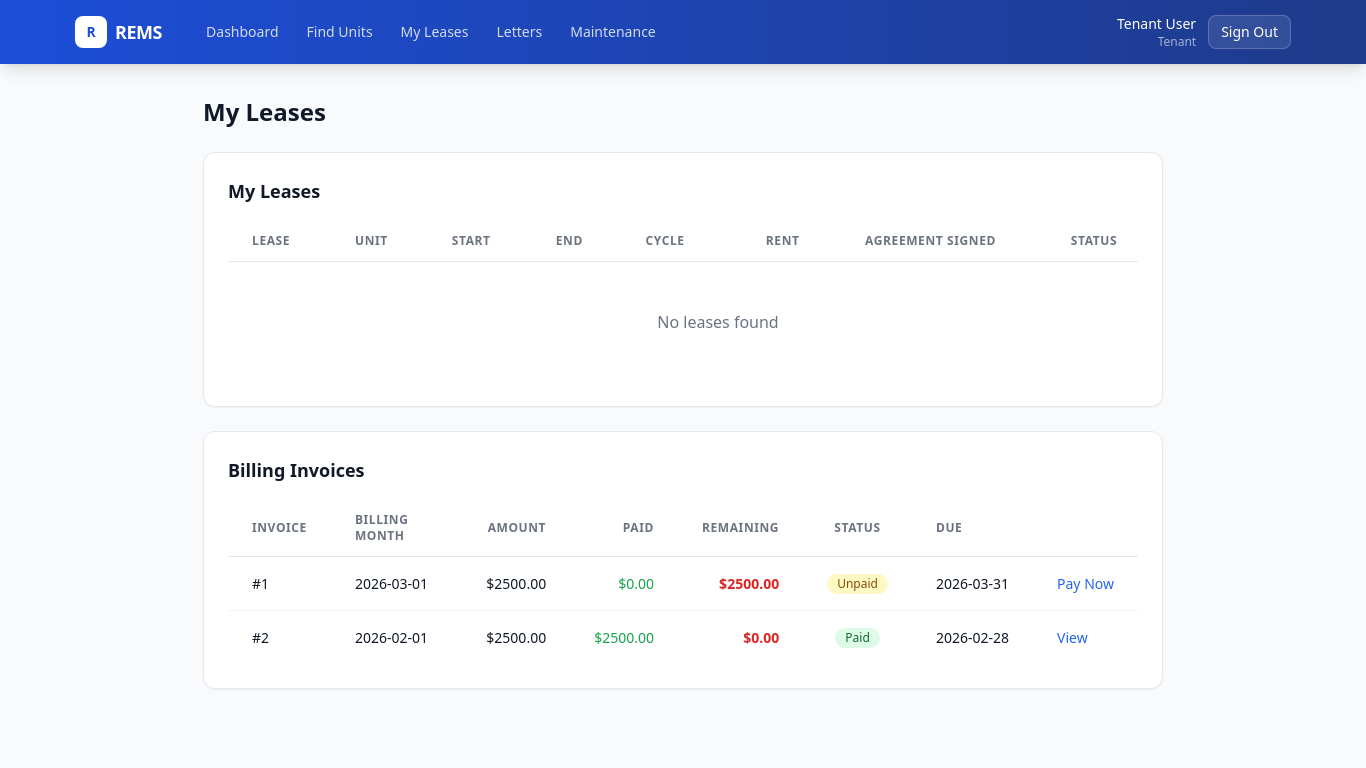
TC-11: My Invoices page › shows payment success message after confirming payment
Click the button "Pay Now": [1086, 584] box [1057,574,1114,594]
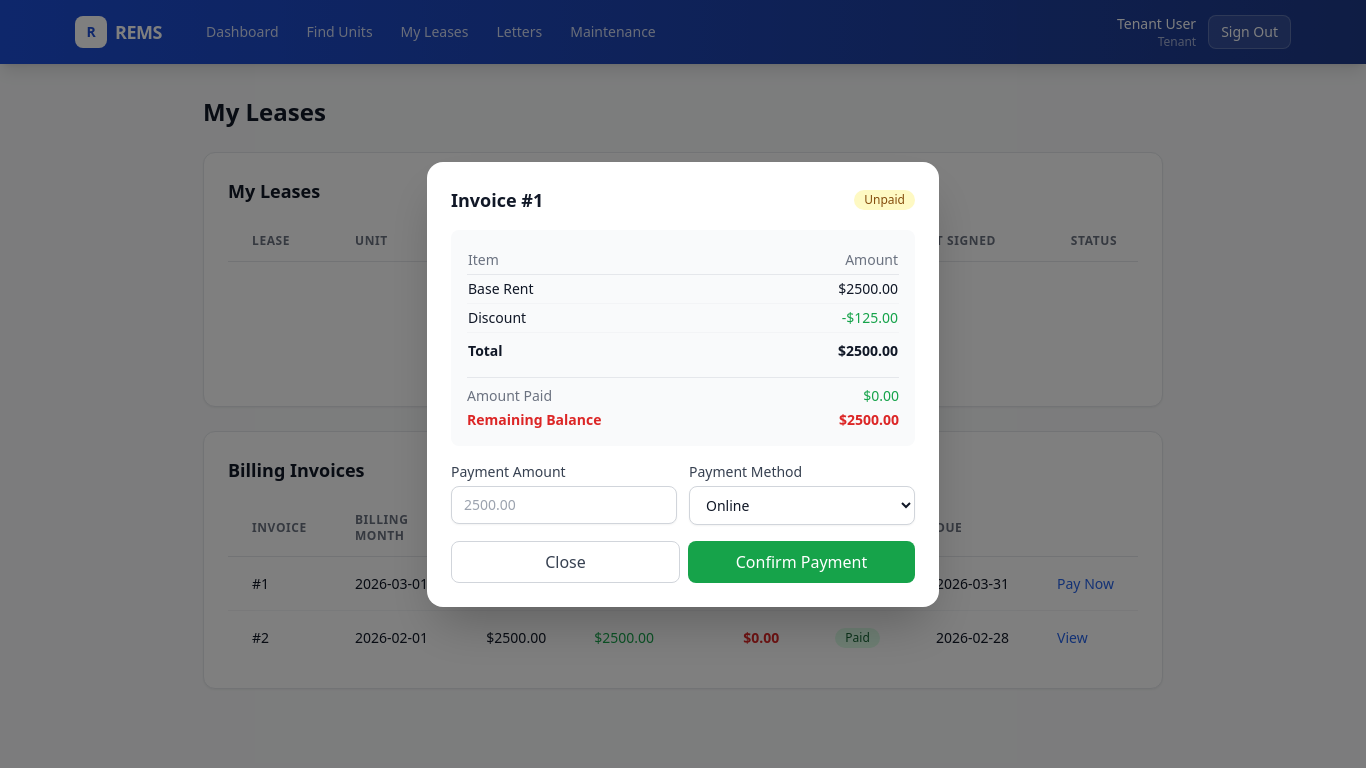
Check: the button "Confirm Payment" is shown, box [688,540,915,582]
In the number field with placeholder "2500.00": [564, 504] box [451,486,677,524], type "1000"
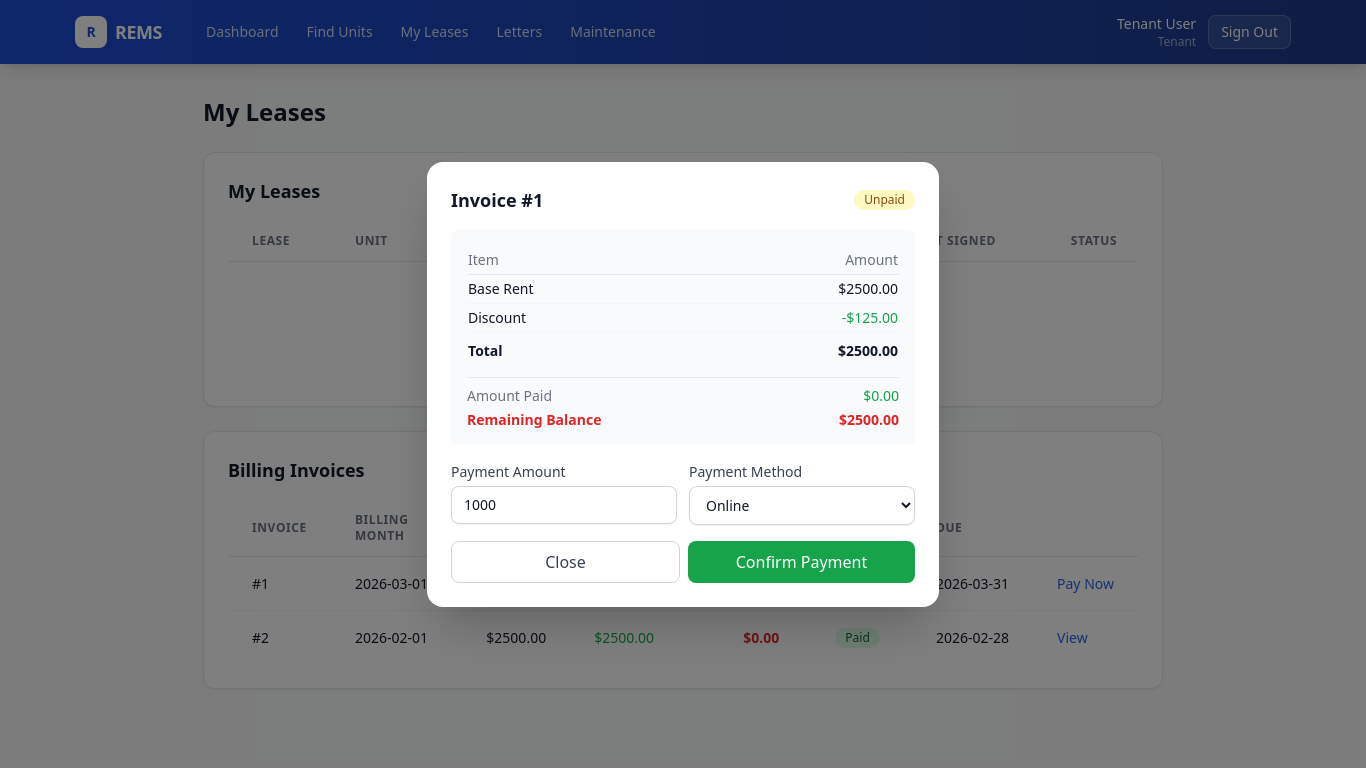
Click the button "Confirm Payment": [802, 562] box [688,540,915,582]
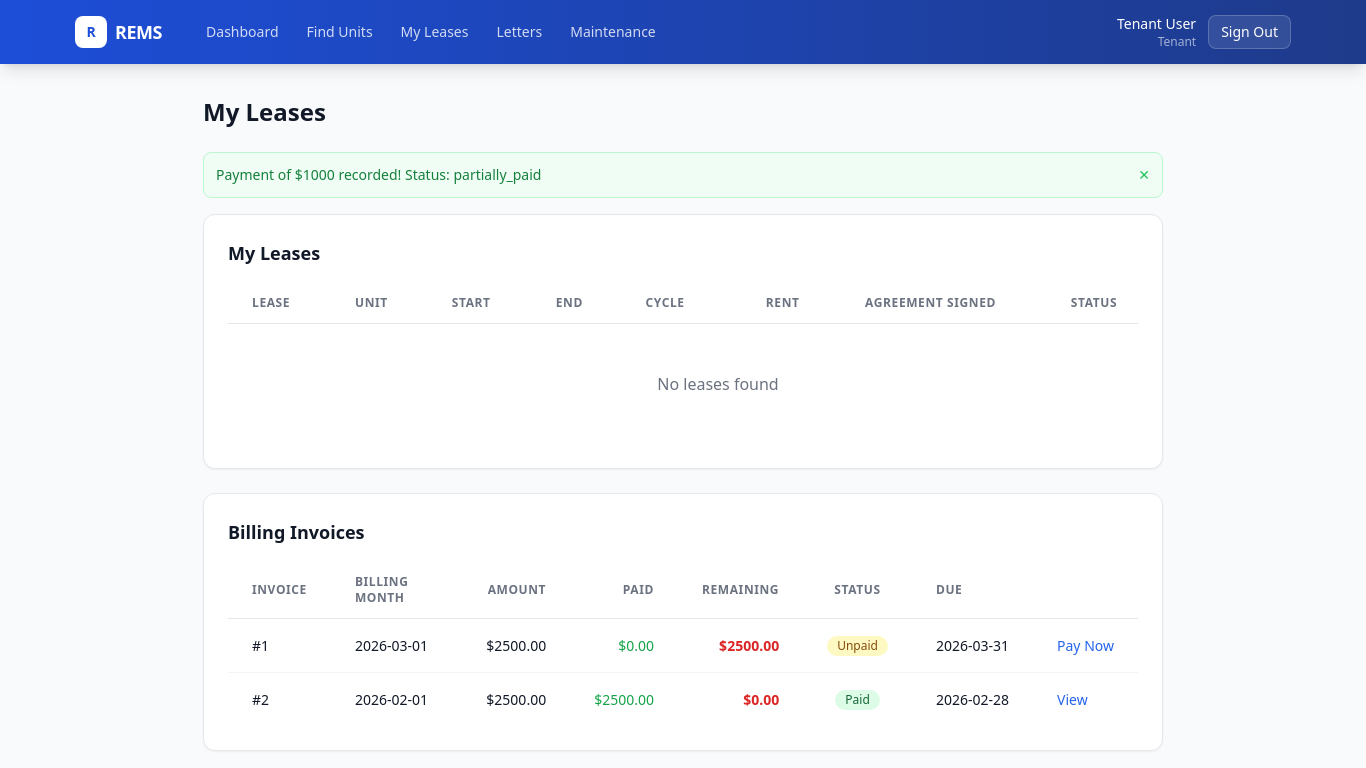
Check: the text "Payment of $1000 recorded! Status: partially_paid ✕" is shown, box [203,152,1163,198]
